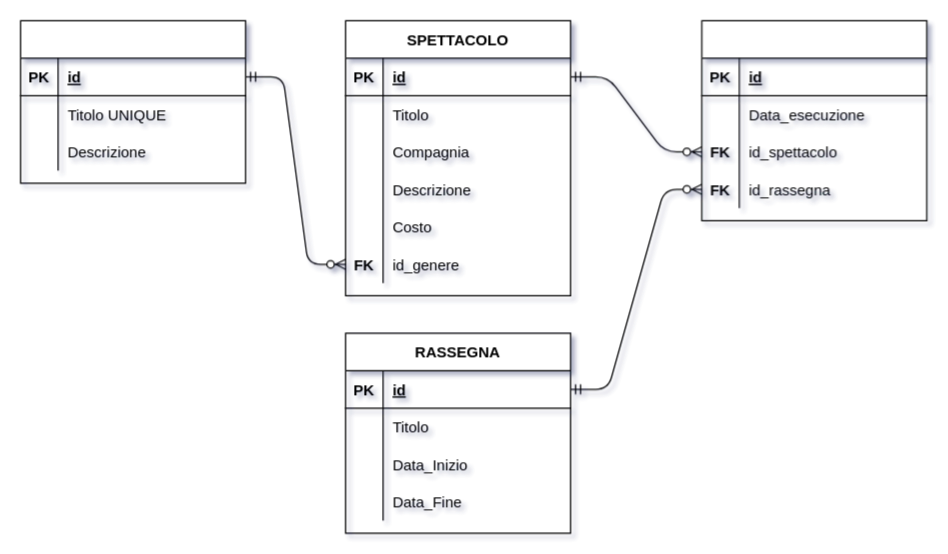
This 948x554 diagram has some shape labels left out. The shapes that lost their labels are listed below. From the top down, each one's box as (x1, y1, x2, y2) in pixels, then its label:
(19, 19, 246, 183): GENERE
(701, 19, 927, 221): RASSEGNA_SPETTACOLO
